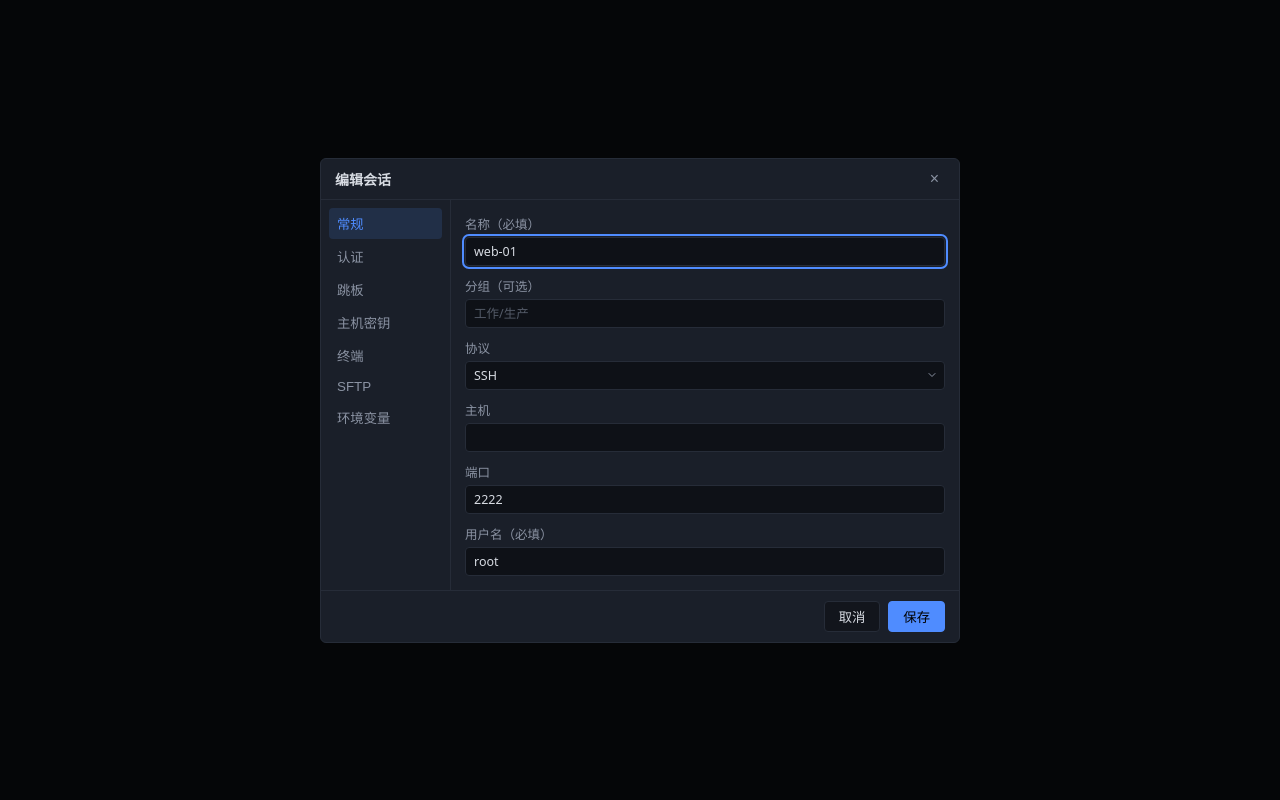
Test case: ProfileDialog · 钉扎指纹 › host 未填 → 不查信任库，就地提示补主机地址
The image size is (1280, 800).
Click the tab "主机密钥": (386, 322) x1=329 y1=306 x2=442 y2=338
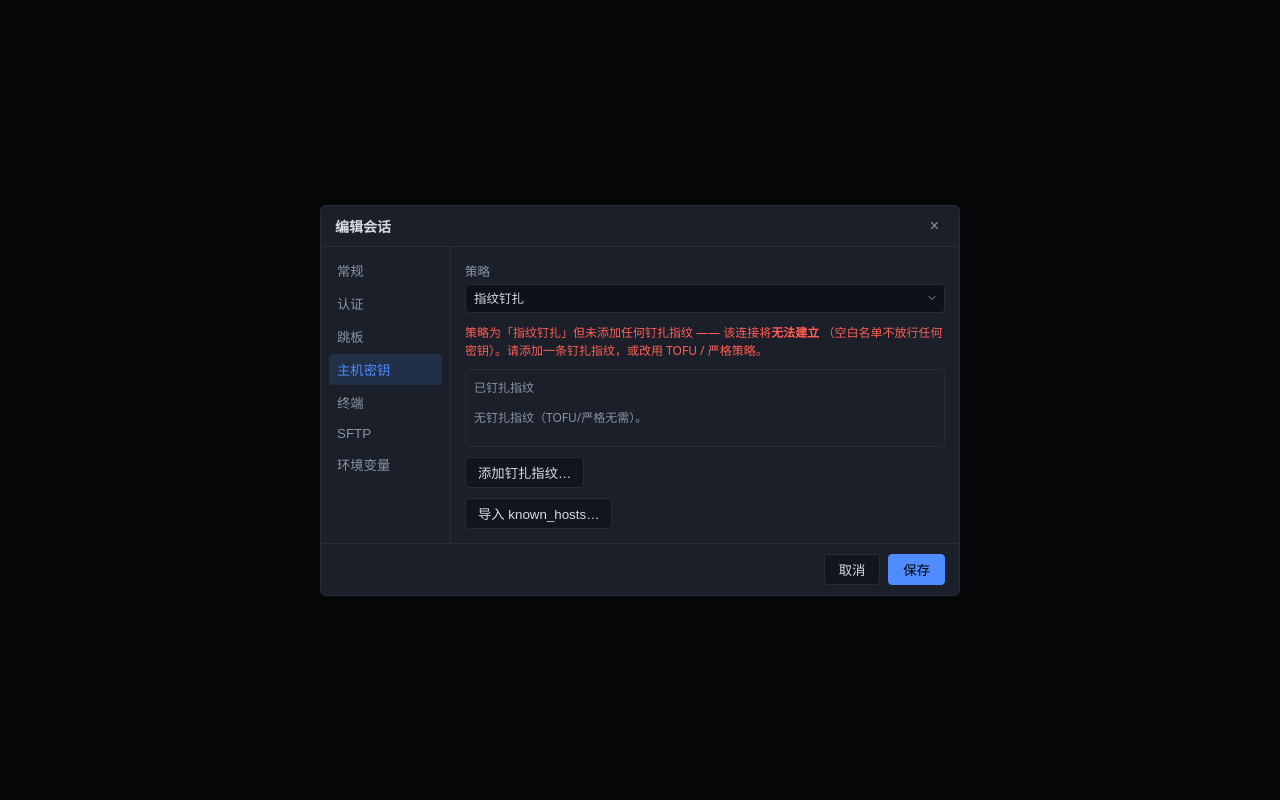
Click the button with test id "pf-add-pin": (525, 472) x1=465 y1=456 x2=584 y2=488
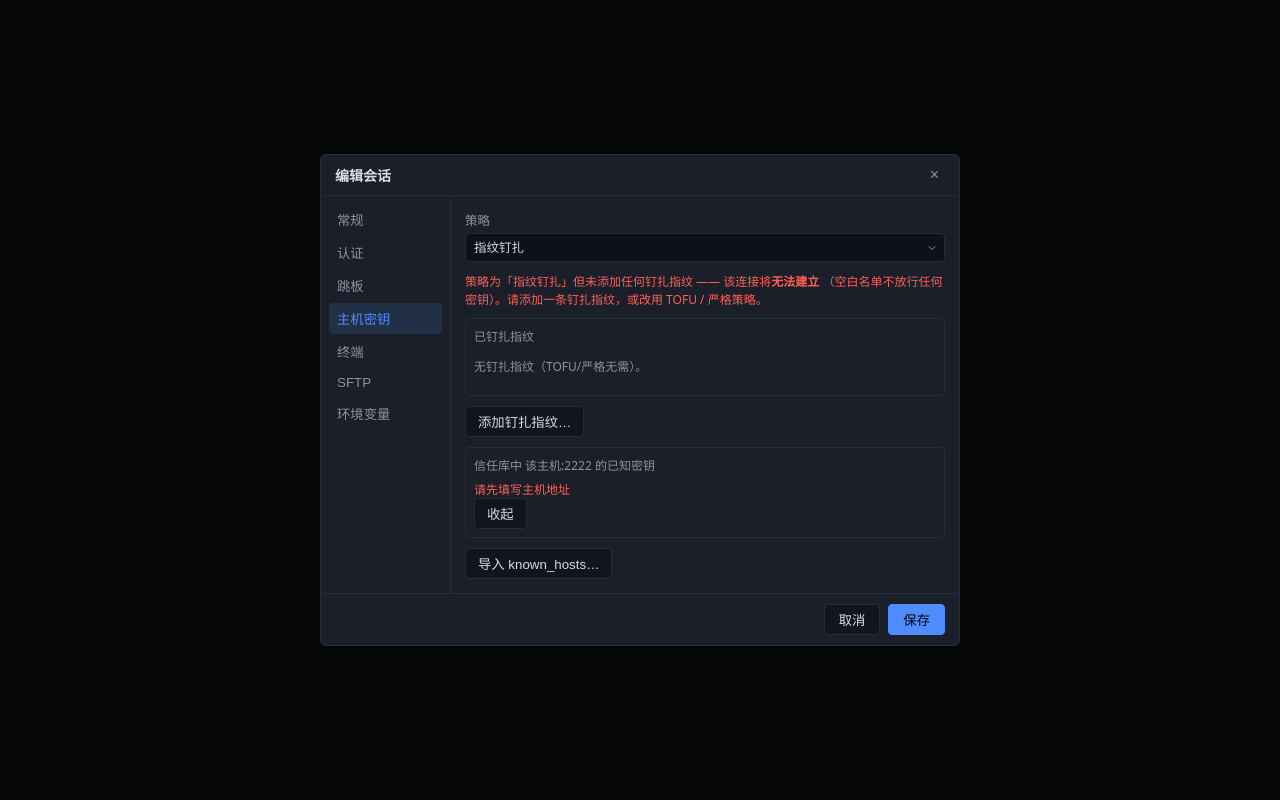
Expected: the element with test id "pf-pin-picker" shows "请先填写主机地址", x1=474 y1=481 x2=570 y2=498
